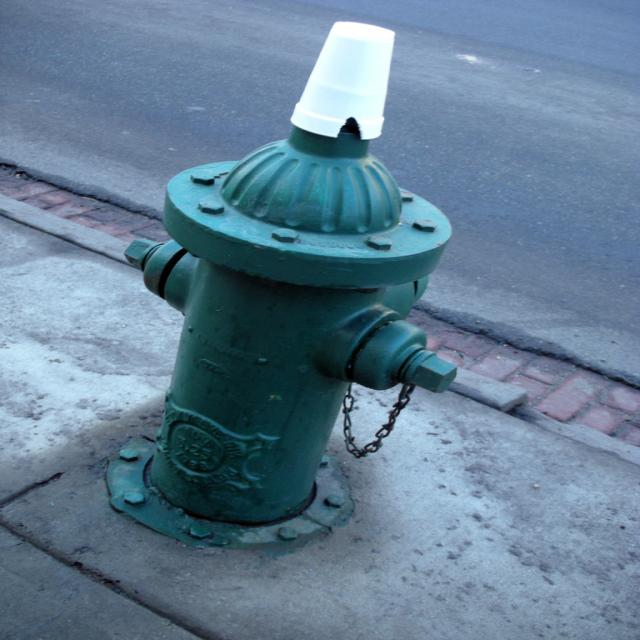fire_hydrant: (109, 121, 454, 548)
